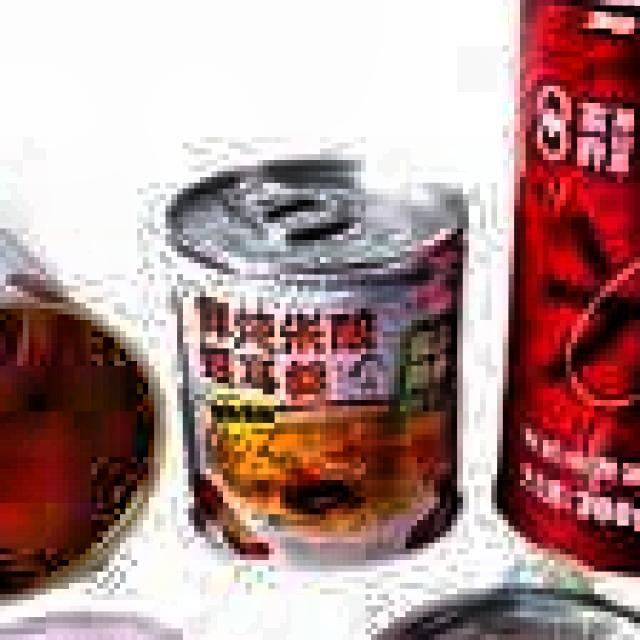metal: (157, 143, 494, 577), (480, 0, 640, 594), (0, 177, 183, 612)
